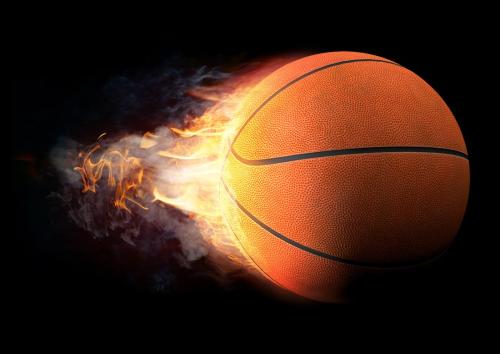fire: (163, 127, 213, 213)
